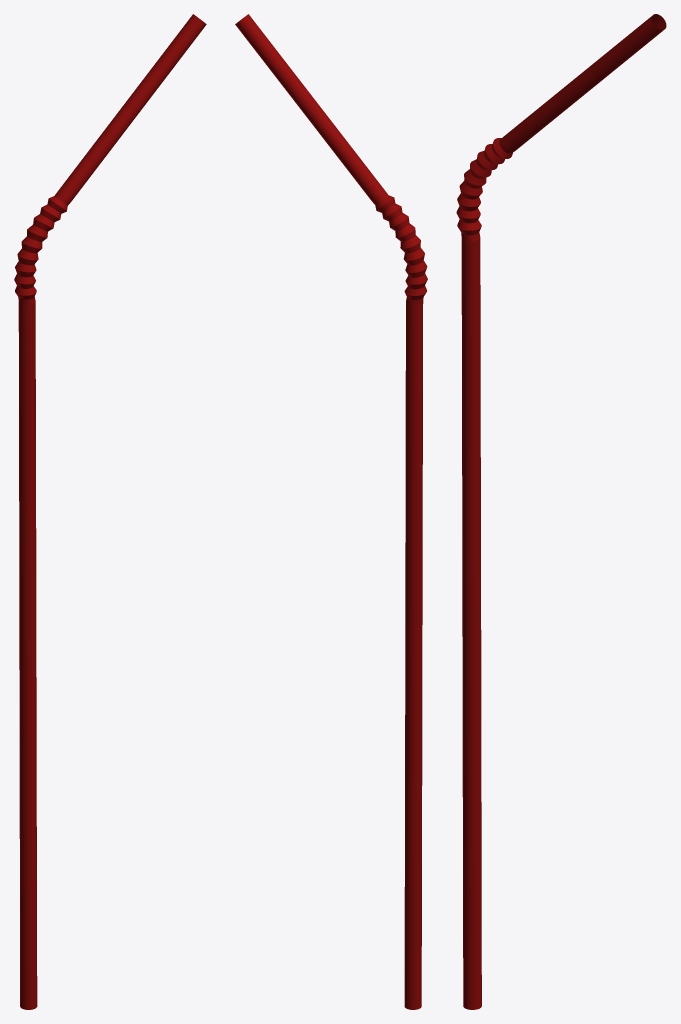
File: straw1.glb
The picture shows the model from 3 angles, left to right: view 1: azimuth 30°, elevation 25°; view 2: azimuth 150°, elevation 25°; view 3: azimuth 330°, elevation 25°; orthographic projection. The views are drawn at different scales.
Parts seen in each view (by area): view 1: Circle; view 2: Circle; view 3: Circle.
Part boxes in pixels (left/top/right/bottom): Circle: left=14, top=14, right=206, bottom=1009; Circle: left=235, top=14, right=427, bottom=1009; Circle: left=456, top=14, right=666, bottom=1009.
Bounding box in the file's own units: 25.6 × 123 × 2.77.
